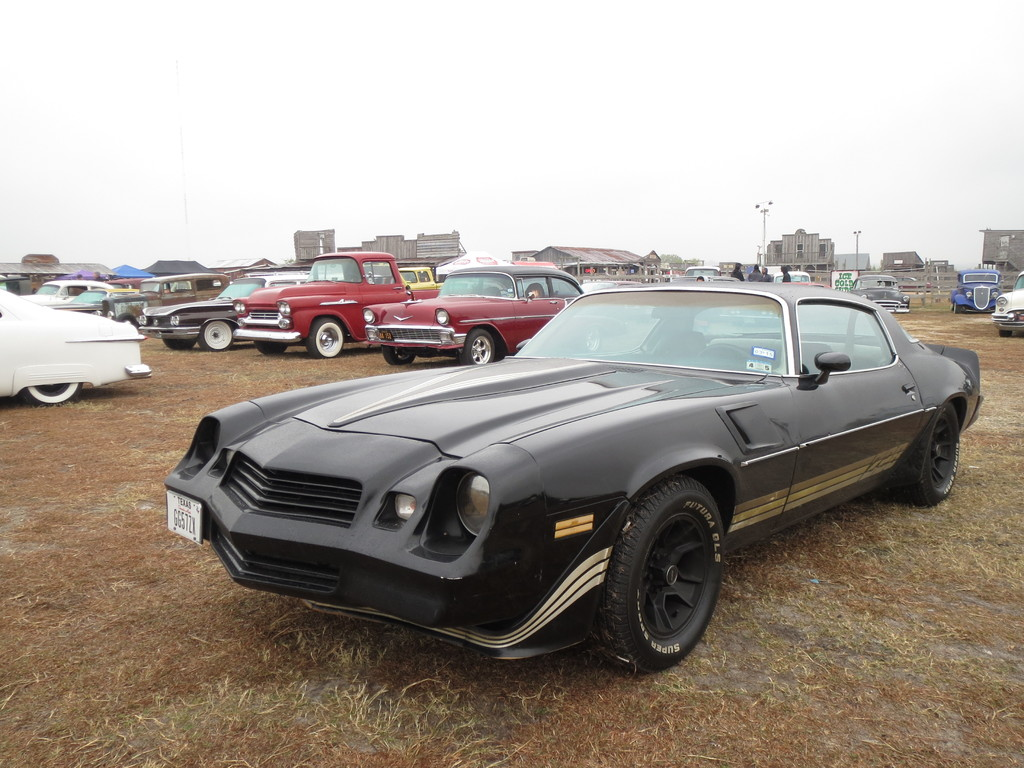Car: (170, 282, 988, 673), (0, 245, 624, 404), (849, 271, 909, 317), (951, 272, 1006, 314), (994, 268, 1023, 337), (768, 269, 810, 285), (678, 263, 720, 276)
